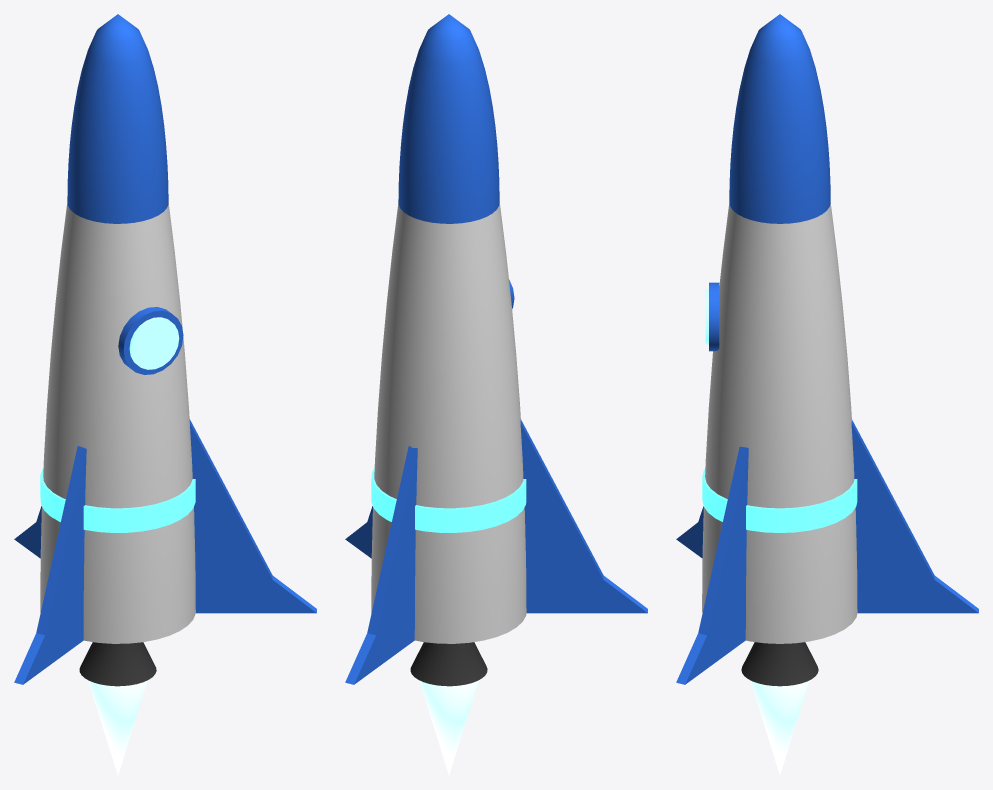
File: Rocket_14_AzureJet.fbx
The picture shows the model from 3 angles, left to right: view 1: azimuth 30°, elevation 25°; view 2: azimuth 150°, elevation 25°; view 3: azimuth 270°, elevation 25°; orthographic projection.
Parts seen in each view (by area): view 1: R14_Body, R14_Nose, R14_Fin_3, R14_Fin_2, R14_Band_1, R14_Nozzle_1, R14_Flame_1, R14_Window_1, R14_WindowFrame_1, R14_Fin_1; view 2: R14_Body, R14_Nose, R14_Fin_2, R14_Fin_1, R14_Band_1, R14_Nozzle_1, R14_Flame_1, R14_Fin_3; view 3: R14_Body, R14_Nose, R14_Fin_1, R14_Fin_3, R14_Band_1, R14_Nozzle_1, R14_Flame_1, R14_WindowFrame_1, R14_Fin_2.
Boxes of the visible parts, x1=… form: R14_Body: x1=40, y1=202, x2=195, y2=643; R14_Nose: x1=67, y1=14, x2=168, y2=223; R14_Fin_3: x1=189, y1=419, x2=316, y2=613; R14_Fin_2: x1=14, y1=446, x2=86, y2=684; R14_Band_1: x1=40, y1=468, x2=195, y2=532; R14_Nozzle_1: x1=79, y1=642, x2=156, y2=686; R14_Flame_1: x1=88, y1=680, x2=147, y2=775; R14_Window_1: x1=129, y1=317, x2=179, y2=369; R14_WindowFrame_1: x1=118, y1=307, x2=183, y2=374; R14_Fin_1: x1=14, y1=506, x2=41, y2=558; R14_Body: x1=371, y1=203, x2=526, y2=643; R14_Nose: x1=398, y1=14, x2=499, y2=223; R14_Fin_2: x1=520, y1=420, x2=647, y2=613; R14_Fin_1: x1=345, y1=446, x2=417, y2=684; R14_Band_1: x1=371, y1=468, x2=526, y2=532; R14_Nozzle_1: x1=410, y1=642, x2=487, y2=686; R14_Flame_1: x1=419, y1=680, x2=478, y2=775; R14_Fin_3: x1=345, y1=506, x2=372, y2=558; R14_Body: x1=702, y1=203, x2=857, y2=643; R14_Nose: x1=729, y1=14, x2=830, y2=223; R14_Fin_1: x1=851, y1=420, x2=978, y2=613; R14_Fin_3: x1=676, y1=446, x2=748, y2=684; R14_Band_1: x1=702, y1=468, x2=857, y2=532; R14_Nozzle_1: x1=741, y1=642, x2=818, y2=686; R14_Flame_1: x1=750, y1=680, x2=809, y2=775; R14_WindowFrame_1: x1=709, y1=282, x2=719, y2=351; R14_Fin_2: x1=676, y1=506, x2=703, y2=557.
Size of the model in its own units: 4.03 by 9.7 by 3.49.
